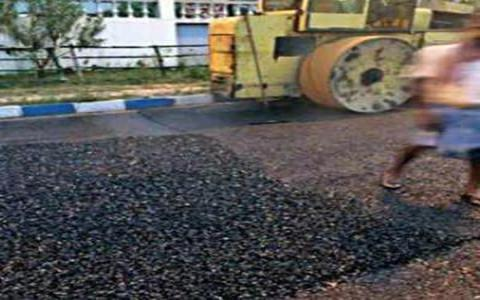Proper road: (56, 115, 254, 192)
